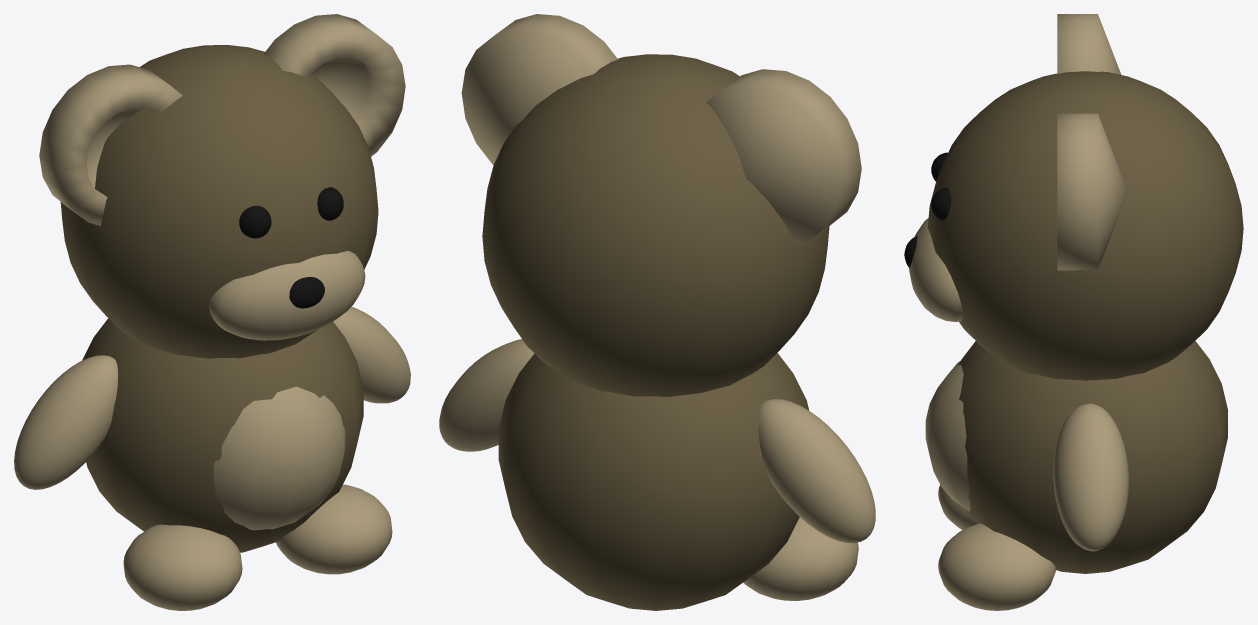
File: colored plushie.fbx
3 renders of one model, left to right at view 1: azimuth 30°, elevation 25°; view 2: azimuth 150°, elevation 25°; view 3: azimuth 270°, elevation 25°, orthographic. The views are drawn at different scales.
Visible parts, largest first — view 1: polySurface12, polySurface7, polySurface13, polySurface1, polySurface2, polySurface10, polySurface8, polySurface9, polySurface3, polySurface4, polySurface5, polySurface11 (+1 smaller); view 2: polySurface12, polySurface7, polySurface1, polySurface2, polySurface10, polySurface4, polySurface9; view 3: polySurface12, polySurface7, polySurface2, polySurface4, polySurface3, polySurface13, polySurface1, polySurface8, polySurface9, polySurface6.
Part boxes in pixels (x1,y1,x2,y2): polySurface12: [60, 45, 378, 358]; polySurface7: [82, 318, 363, 552]; polySurface13: [213, 386, 345, 530]; polySurface1: [39, 64, 182, 225]; polySurface2: [264, 14, 405, 156]; polySurface10: [14, 355, 117, 489]; polySurface8: [209, 251, 365, 340]; polySurface9: [123, 524, 242, 610]; polySurface3: [276, 484, 392, 574]; polySurface4: [333, 306, 410, 403]; polySurface5: [289, 277, 324, 308]; polySurface11: [239, 205, 271, 238]; polySurface12: [482, 54, 829, 396]; polySurface7: [498, 353, 808, 610]; polySurface1: [706, 69, 861, 244]; polySurface2: [461, 14, 617, 164]; polySurface10: [758, 399, 875, 543]; polySurface4: [439, 339, 534, 451]; polySurface9: [743, 517, 858, 600]; polySurface12: [927, 71, 1243, 380]; polySurface7: [959, 341, 1227, 573]; polySurface2: [1057, 113, 1127, 270]; polySurface4: [1053, 403, 1128, 551]; polySurface3: [938, 523, 1055, 610]; polySurface13: [925, 360, 970, 511]; polySurface1: [1057, 14, 1121, 74]; polySurface8: [909, 218, 963, 321]; polySurface9: [938, 485, 977, 529]; polySurface6: [931, 187, 951, 220].
Bounding box in the file's own units: 0.2983 × 0.3678 × 0.2265.
